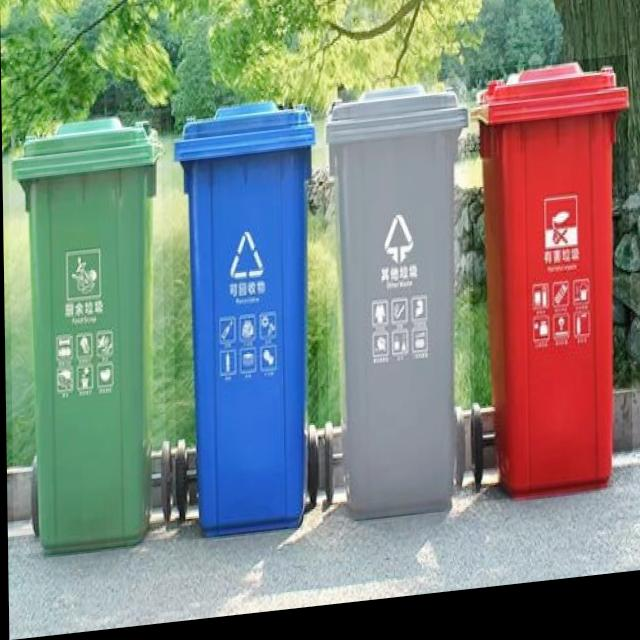garbage_bin: (470, 69, 631, 513), (8, 112, 165, 555), (323, 88, 471, 530), (171, 104, 318, 545)
